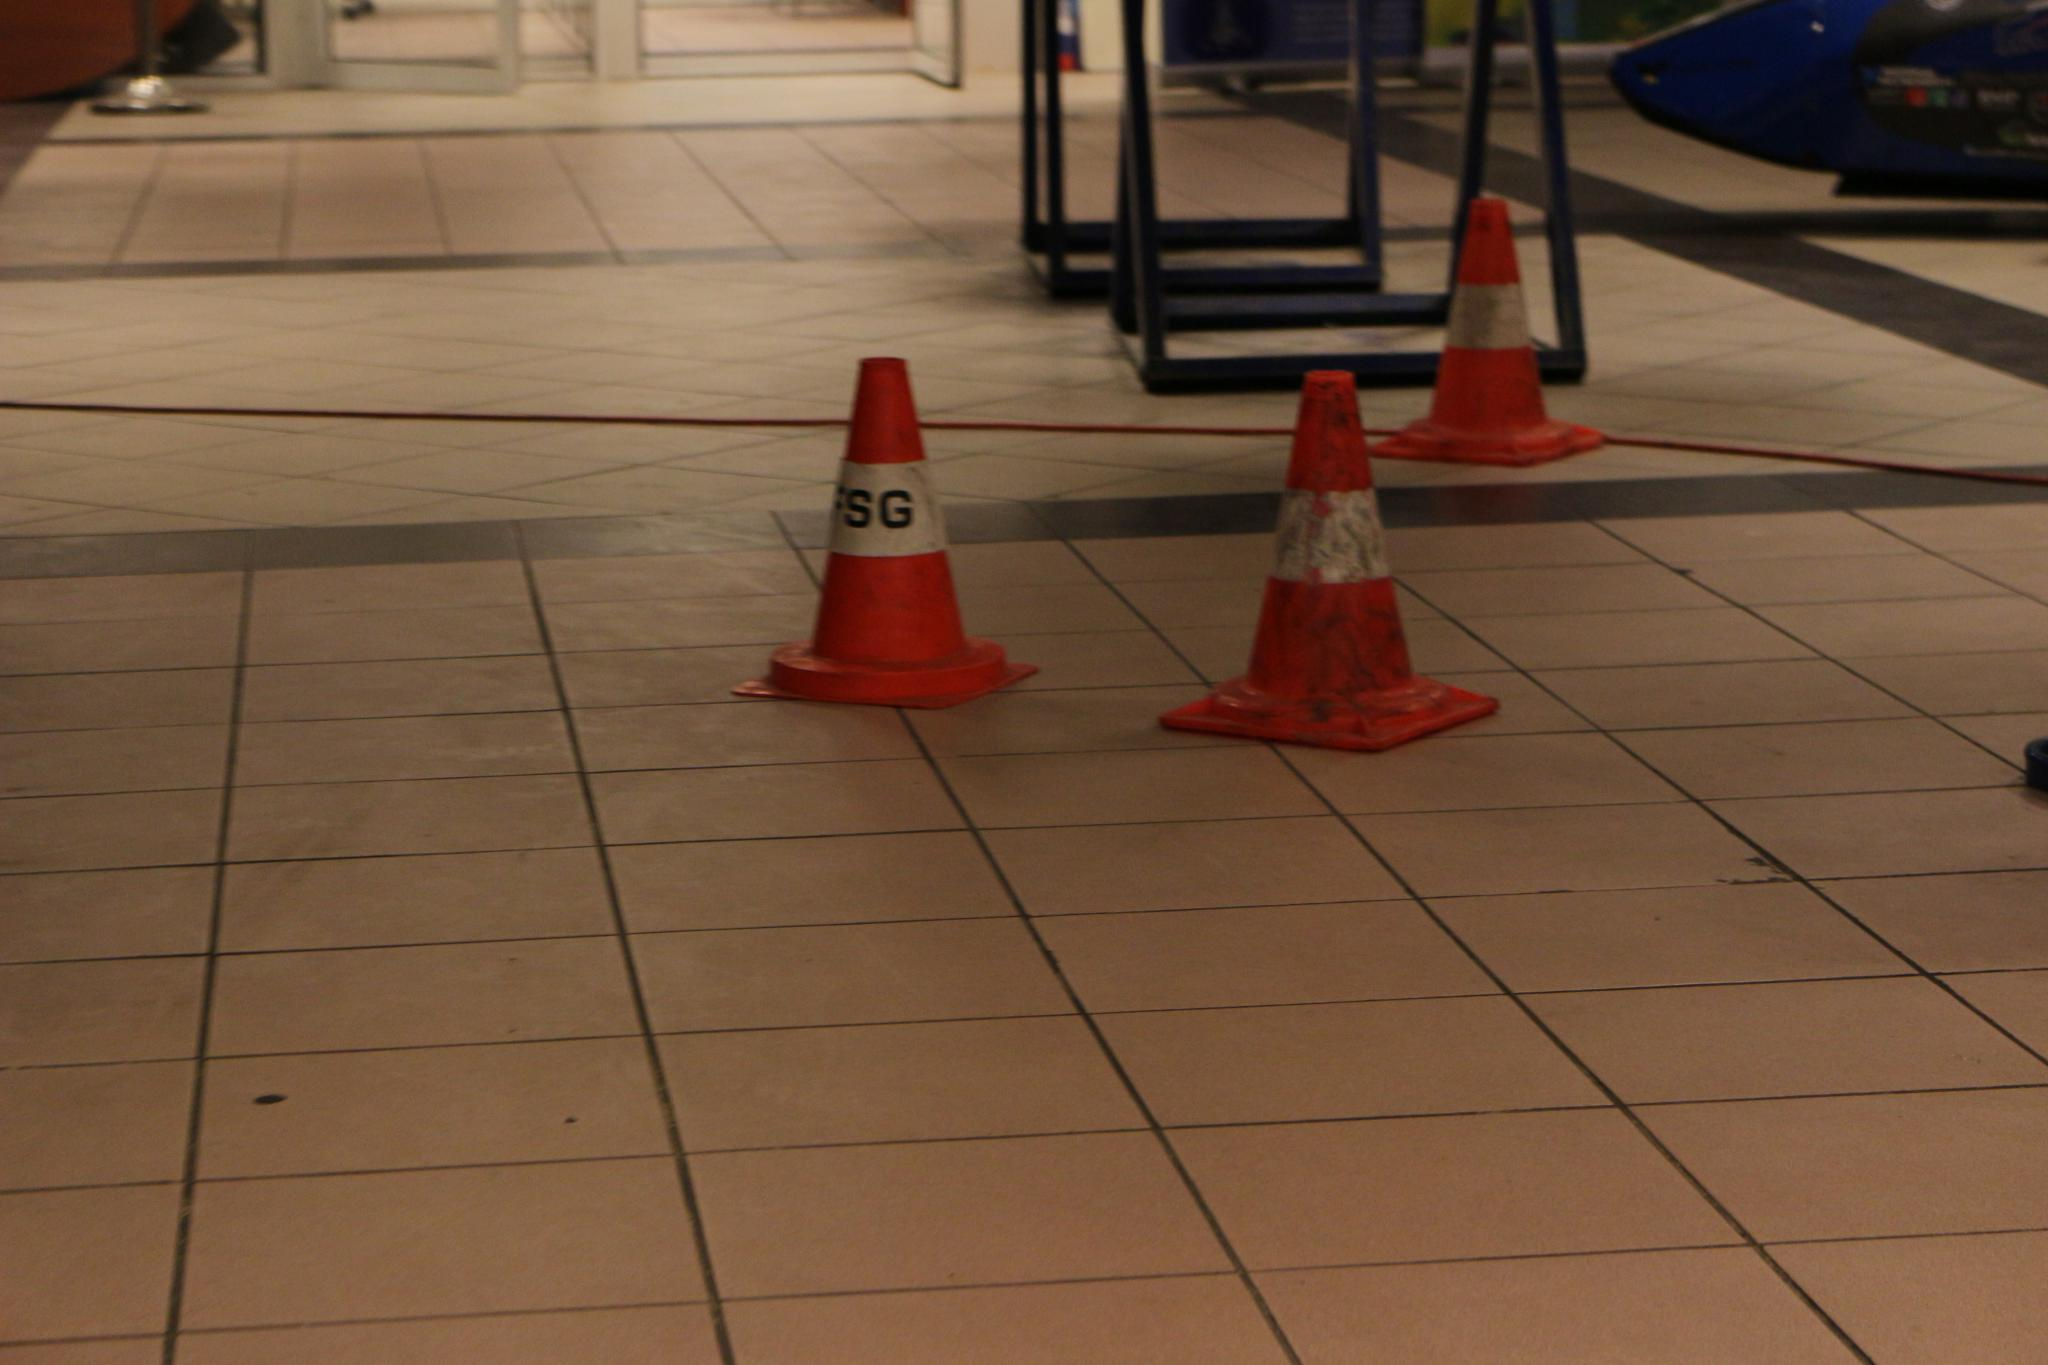Orange_Cone: (1186, 357, 1474, 752), (758, 348, 1018, 715), (1392, 170, 1594, 471)
